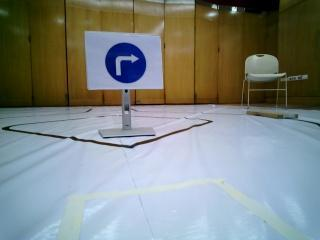right: (87, 30, 165, 90)
